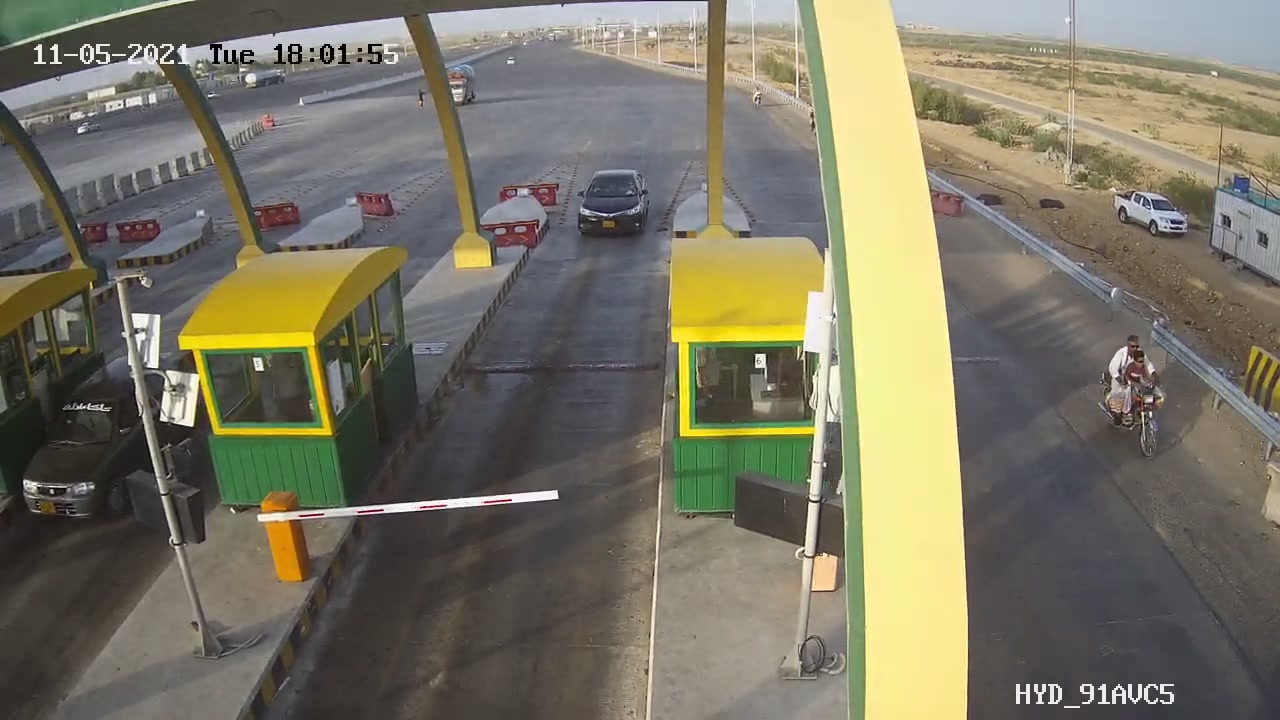F1: (572, 159, 657, 247)
